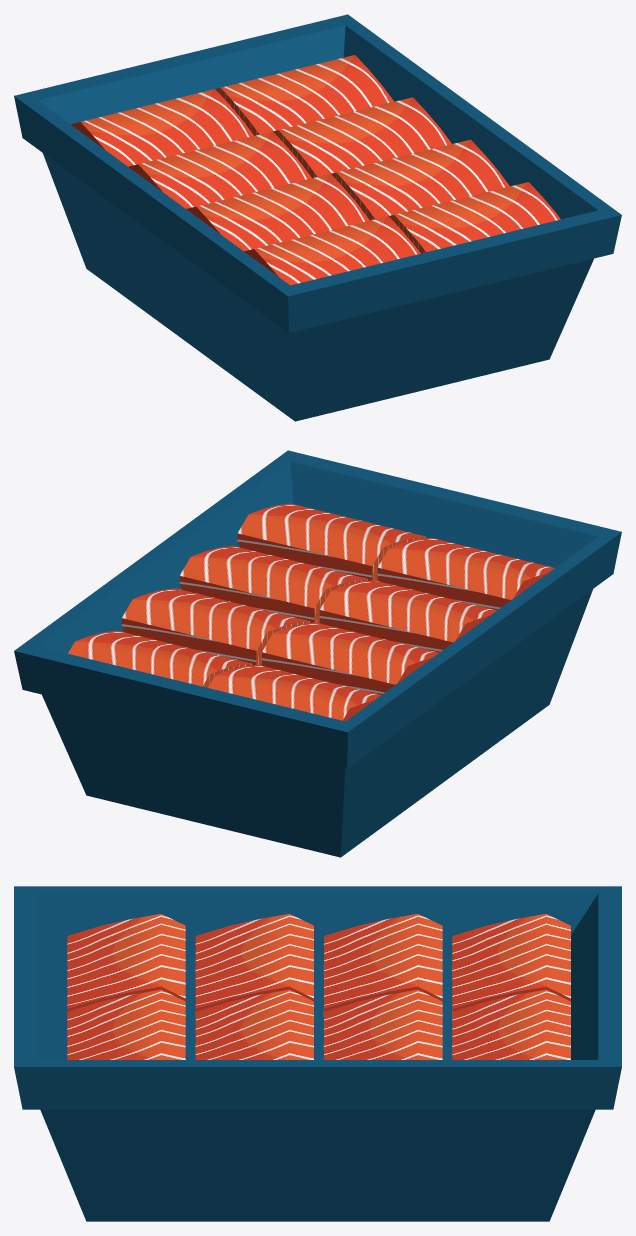
File: fish.fbx
3 renders of one model, top to bottom at view 1: azimuth 30°, elevation 25°; view 2: azimuth 150°, elevation 25°; view 3: azimuth 270°, elevation 25°, orthographic. The views are drawn at different scales.
Visible parts, largest first — view 1: fish; view 2: fish; view 3: fish.
Boxes of the visible parts, x1,y1,x2,y2 form: fish: (14,14,621,421); fish: (14,450,621,857); fish: (14,886,621,1221).
Bounding box in the file's own units: 113 × 51.44 × 161.
2 materials, 1 textured.
